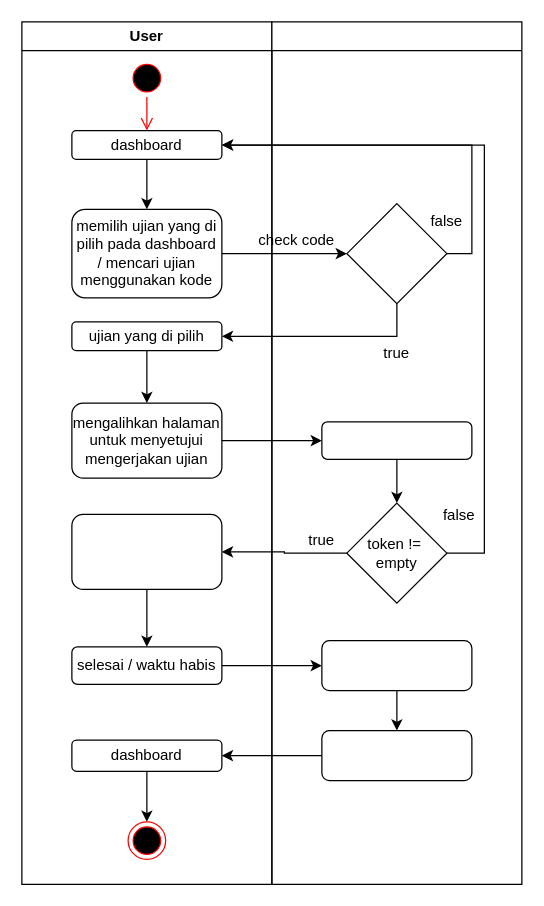
Image size: 544x906. Some labels were removed from this diagram. Here are the shapes that lost their labels. From the top down, the box of each, then its label:
(321, 421, 472, 459): generate token
(271, 21, 522, 884): Sistem
(71, 513, 222, 589): mengalihkan halaman mengerjakan ujian
(321, 639, 472, 691): menghitung dan menentukkan nilai
(321, 729, 472, 781): tambahkan ujian pada history
